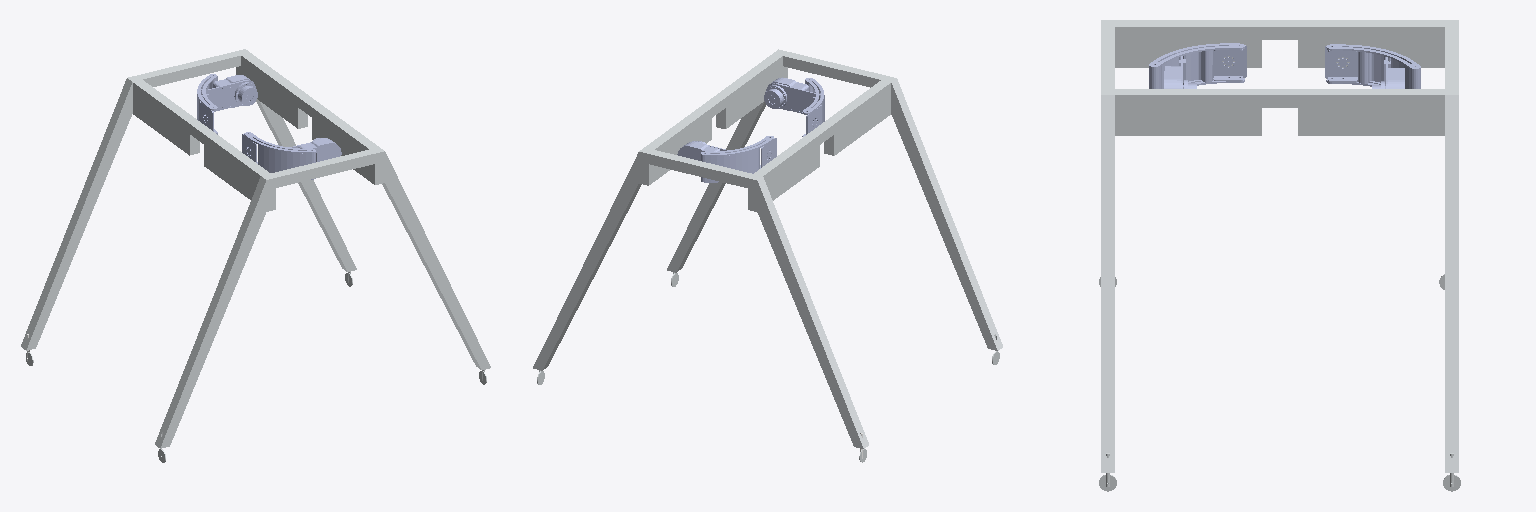
--- Render facts (derived) ---
Views: 3 orthographic renders of the robot side by side, from view 1: azimuth 30°, elevation 25°; view 2: azimuth 150°, elevation 25°; view 3: azimuth 270°, elevation 25°.
Model exoskeleton_btp with 20 links and 19 joints (16 continuous, 3 fixed), rooted at base_link, posed all joints at 0.
Links seen in each view (by area): view 1: rig_base_link, right_abd, left_IR, left_abd, right_IR; view 2: rig_base_link, left_abd, right_IR, right_abd; view 3: rig_base_link, right_abd, left_abd, right_IR, left_IR.
Boxes of the visible links, box(x1,y1,x2,y2) form: rig_base_link: box(21, 49, 490, 448); right_abd: box(242, 132, 315, 179); left_IR: box(201, 75, 257, 111); left_abd: box(197, 74, 217, 134); right_IR: box(290, 138, 341, 161); rig_base_link: box(533, 49, 1002, 448); left_abd: box(701, 136, 776, 182); right_IR: box(764, 77, 820, 113); right_abd: box(802, 78, 824, 136); rig_base_link: box(1101, 20, 1458, 472); right_abd: box(1149, 43, 1246, 88); left_abd: box(1325, 44, 1420, 88); right_IR: box(1164, 55, 1196, 88); left_IR: box(1372, 56, 1404, 88).
Bounding box of the posed robot: 1.34 × 0.99 × 1.01 m (x, y, z).
Meshes: 20 distinct files referenced, 12 mesh visuals loaded (12 binary STL); not drawn: 8 (reference not matched to a file when rendering).

robot.urdf — exoskeleton_btp:
<?xml version="1.0" encoding="utf-8" ?>
<!-- This URDF was automatically created by SolidWorks to URDF Exporter! Originally created by Stephen Brawner ([email redacted]) 
     Commit Version: 1.5.1-0-g916b5db  Build Version: 1.5.7152.31018
     For more information, please see http://wiki.ros.org/sw_urdf_exporter -->
<robot name="exoskeleton_btp">
    <link name="base_link">
        
<inertial>
            <origin xyz="0.1374 0.17784 0.29296" rpy="0 0 0" />
            <mass value="1.6284" />
            <inertia ixx="0.0049242" ixy="-1.1068E-07" ixz="1.4133E-05" iyy="0.0012571" iyz="6.8671E-06" izz="0.0040482" />
        </inertial>

        <visual>
            <origin xyz="0 0 0" rpy="0 0 0" />
            <geometry>
                <mesh filename="package://exoskeleton_btp/meshes/base_link.STL" />
            </geometry>
            <material name="">
                <color rgba="0.79216 0.81961 0.93333 1" />
            </material>
        </visual>
        <collision>
            <origin xyz="0 0 0" rpy="0 0 0" />
            <geometry>
                <mesh filename="package://exoskeleton_btp/meshes/base_link.STL" />
            </geometry>
        </collision>
    </link>
    <link name="right_abd">
        
<inertial>
            <origin xyz="0.060901 0.00077301 0.1073" rpy="0 0 0" />
            <mass value="0.39057" />
            <inertia ixx="0.0017341" ixy="-6.9806E-06" ixz="-0.0009688" iyy="0.0022726" iyz="-8.6331E-06" izz="0.0010696" />
        </inertial>

        <visual>
            <origin xyz="0 0 0" rpy="0 0 0" />
            <geometry>
                <mesh filename="package://exoskeleton_btp/meshes/right_abd.STL" />
            </geometry>
            <material name="">
                <color rgba="0.79216 0.81961 0.93333 1" />
            </material>
        </visual>
        <collision>
            <origin xyz="0 0 0" rpy="0 0 0" />
            <geometry>
                <mesh filename="package://exoskeleton_btp/meshes/right_abd.STL" />
            </geometry>
        </collision>
    </link>
    <joint name="joint_right_abd" type="continuous">
        <origin xyz="0.18866 -0.44997 0.15871" rpy="1.5762 -8.7598E-05 0" />
        <parent link="base_link" />
        <child link="right_abd" />
        <axis xyz="0.99987 -0 0.016127" />
        <limit lower="-1.57" upper="1.57" effort="50" velocity="2" />
    </joint>
    <link name="right_IR">
        
<inertial>
            <origin xyz="-0.0392871810712728 0.0411109744677959 0.138935601316326" rpy="0 0 0" />
            <mass value="0.603610840109084" />
            <inertia ixx="0.000492310842165682" ixy="-2.43938943929523E-07" ixz="-1.74058723223123E-05" iyy="0.000854839735660645" iyz="2.49487643777159E-06" izz="0.00119850539145051" />
        </inertial>

        <visual>
            <origin xyz="0 0 0" rpy="0 0 0" />
            <geometry>
                <mesh filename="package://exoskeleton_btp/meshes/right_IR.STL" />
            </geometry>
            <material name="">
                <color rgba="0.792156862745098 0.819607843137255 0.933333333333333 1" />
            </material>
        </visual>
        <collision>
            <origin xyz="0 0 0" rpy="0 0 0" />
            <geometry>
                <mesh filename="package://exoskeleton_btp/meshes/right_IR.STL" />
            </geometry>
        </collision>
    </link>
    <joint name="joint_right_ir" type="fixed">
        <origin xyz="0.23659 -0.03974 0.0041779" rpy="0 -0.008859 6.4417E-05" />
        <parent link="right_abd" />
        <child link="right_IR" />
        <axis xyz="-0.00011727 -0.99997 0.0072704" />
        <limit lower="-0.78" upper="0.78" effort="50" velocity="0" />
    </joint>
    <link name="right_thigh">
        
<inertial>
            <origin xyz="-0.00587420466230082 -0.298902174142625 0.091775599276321" rpy="0 0 0" />
            <mass value="1.15370911386034" />
            <inertia ixx="0.00218007175592022" ixy="-1.55748585880625E-05" ixz="-4.42415137653492E-06" iyy="0.00132233462272001" iyz="5.74444533558131E-05" izz="0.00283882830556965" />
        </inertial>

        <visual>
            <origin xyz="0 0 0" rpy="0 0 0" />
            <geometry>
                <mesh filename="package://exoskeleton_btp/meshes/right_thigh.STL" />
            </geometry>
            <material name="">
                <color rgba="0.792156862745098 0.819607843137255 0.933333333333333 1" />
            </material>
        </visual>
        <collision>
            <origin xyz="0 0 0" rpy="0 0 0" />
            <geometry>
                <mesh filename="package://exoskeleton_btp/meshes/right_thigh.STL" />
            </geometry>
        </collision>
    </link>
    <joint name="joint_right_hip_flexion" type="continuous">
        <origin xyz="-0.0098949 0.050182 -0.00036542" rpy="0 0.00014564 0.020031" />
        <parent link="right_IR" />
        <child link="right_thigh" />
        <axis xyz="-5.6331E-05 0.0072704 0.99997" />
        <limit lower="-1.57" upper="1.57" effort="50" velocity="2" />
    </joint>
    <link name="right_shin">
        
<inertial>
            <origin xyz="-0.00484324975988659 -0.249966332784877 0.0473164354576108" rpy="0 0 0" />
            <mass value="1.02843390965148" />
            <inertia ixx="0.00235506979229389" ixy="-4.16475367765636E-05" ixz="-5.53584798297785E-06" iyy="0.00135441560259714" iyz="3.29601832998121E-05" izz="0.00314486729465403" />
        </inertial>

        <visual>
            <origin xyz="0 0 0" rpy="0 0 0" />
            <geometry>
                <mesh filename="package://exoskeleton_btp/meshes/right_shin.STL" />
            </geometry>
            <material name="">
                <color rgba="0.792156862745098 0.819607843137255 0.933333333333333 1" />
            </material>
        </visual>
        <collision>
            <origin xyz="0 0 0" rpy="0 0 0" />
            <geometry>
                <mesh filename="package://exoskeleton_btp/meshes/right_shin.STL" />
            </geometry>
        </collision>
    </link>
    <joint name="right_knee_joint" type="continuous">
        <origin xyz="-0.0080859 -0.43466 0.0031598" rpy="0 -4.2582E-05 -0.0058569" />
        <parent link="right_thigh" />
        <child link="right_shin" />
        <axis xyz="-5.6331E-05 0.0072704 0.99997" />
        <limit lower="0" upper="1.57" effort="50" velocity="2" />
    </joint>
    <link name="right_foot">
        
<inertial>
            <origin xyz="0.0270286138870783 -0.0603750401354918 -0.0491138257398857" rpy="0 0 0" />
            <mass value="0.488467661155972" />
            <inertia ixx="0.000615128535492023" ixy="3.500753715996E-06" ixz="-1.67688728203427E-08" iyy="0.000990291323750016" iyz="-3.84872415697616E-06" izz="0.000460939635747118" />
        </inertial>

        <visual>
            <origin xyz="0 0 0" rpy="0 0 0" />
            <geometry>
                <mesh filename="package://exoskeleton_btp/meshes/right_foot.STL" />
            </geometry>
            <material name="">
                <color rgba="0.792156862745098 0.819607843137255 0.933333333333333 1" />
            </material>
        </visual>
        <collision>
            <origin xyz="0 0 0" rpy="0 0 0" />
            <geometry>
                <mesh filename="package://exoskeleton_btp/meshes/right_foot.STL" />
            </geometry>
        </collision>
    </link>
    <joint name="right_ankle_flexion" type="continuous">
        <origin xyz="-0.0076107 -0.41617 0.0029527" rpy="0 -0.00017972 -0.024724" />
        <parent link="right_shin" />
        <child link="right_foot" />
        <axis xyz="-5.6331E-05 0.0072704 0.99997" />
        <limit lower="-0.78" upper="0.78" effort="50" velocity="2" />
    </joint>
    <link name="left_abd">
        
<inertial>
            <origin xyz="0.0652322924298407 -0.00922698573131753 0.107372356173445" rpy="0 0 0" />
            <mass value="0.390571538812804" />
            <inertia ixx="0.00173406573408417" ixy="-6.98064356900783E-06" ixz="-0.000968802831064001" iyy="0.00227256938156413" iyz="-8.6330776029772E-06" izz="0.00106961365428043" />
        </inertial>

        <visual>
            <origin xyz="0 0 0" rpy="0 0 0" />
            <geometry>
                <mesh filename="package://exoskeleton_btp/meshes/left_abd.STL" />
            </geometry>
            <material name="">
                <color rgba="0.792156862745098 0.819607843137255 0.933333333333333 1" />
            </material>
        </visual>
        <collision>
            <origin xyz="0 0 0" rpy="0 0 0" />
            <geometry>
                <mesh filename="package://exoskeleton_btp/meshes/left_abd.STL" />
            </geometry>
        </collision>
    </link>
    <joint name="joint_left_abd" type="continuous">
        <origin xyz="0.18936 -0.13768 0.14796" rpy="-1.5627 0.00013065 -0.032255" />
        <parent link="base_link" />
        <child link="left_abd" />
        <axis xyz="0.99987 0 0.016127" />
        <limit lower="-1.57" upper="1.57" effort="50" velocity="2" />
    </joint>
    <link name="left_IR">
        
<inertial>
            <origin xyz="-0.0392990142875405 -0.0497943875974824 0.139669246292548" rpy="0 0 0" />
            <mass value="0.603610840109083" />
            <inertia ixx="0.000492310842165682" ixy="-2.43938943929588E-07" ixz="-1.74058723223128E-05" iyy="0.000854839735660643" iyz="2.49487643777121E-06" izz="0.0011985053914505" />
        </inertial>

        <visual>
            <origin xyz="0 0 0" rpy="0 0 0" />
            <geometry>
                <mesh filename="package://exoskeleton_btp/meshes/left_IR.STL" />
            </geometry>
            <material name="">
                <color rgba="0.792156862745098 0.819607843137255 0.933333333333333 1" />
            </material>
        </visual>
        <collision>
            <origin xyz="0 0 0" rpy="0 0 0" />
            <geometry>
                <mesh filename="package://exoskeleton_btp/meshes/left_IR.STL" />
            </geometry>
        </collision>
    </link>
    <joint name="joint_left_ir" type="fixed">
        <origin xyz="0.24094 0.041166 0.0035141" rpy="0 -0.03127 0.00022748" />
        <parent link="left_abd" />
        <child link="left_IR" />
        <axis xyz="0.00011727 0.99997 -0.0072704" />
        <limit lower="-0.78" upper="0.78" effort="50" velocity="0" />
    </joint>
    <link name="left_thigh">
        
<inertial>
            <origin xyz="-0.00587419889410834 -0.288902135446464 0.0917754024034975" rpy="0 0 0" />
            <mass value="1.15370940261833" />
            <inertia ixx="0.00218007113154743" ixy="-1.5574685975789E-05" ixz="-4.42993941603603E-06" iyy="0.00132233519439819" iyz="5.74409958686481E-05" izz="0.00283882929782907" />
        </inertial>

        <visual>
            <origin xyz="0 0 0" rpy="0 0 0" />
            <geometry>
                <mesh filename="package://exoskeleton_btp/meshes/left_thigh.STL" />
            </geometry>
            <material name="">
                <color rgba="0.792156862745098 0.819607843137255 0.933333333333333 1" />
            </material>
        </visual>
        <collision>
            <origin xyz="0 0 0" rpy="0 0 0" />
            <geometry>
                <mesh filename="package://exoskeleton_btp/meshes/left_thigh.STL" />
            </geometry>
        </collision>
    </link>
    <joint name="joint_left_hip_flexion" type="continuous">
        <origin xyz="-0.0097064 -0.050721 0.00036823" rpy="0.01454 -0.00010065 -3.1123" />
        <parent link="left_IR" />
        <child link="left_thigh" />
        <axis xyz="0 0 1" />
        <limit lower="-1.57" upper="1.57" effort="50" velocity="2" />
    </joint>
    <link name="left_shin">
        
<inertial>
            <origin xyz="0.0021572666461262 -0.242332427675037 -0.0452747616492767" rpy="0 0 0" />
            <mass value="1.03950139195202" />
            <inertia ixx="0.00235534748488329" ixy="1.0328444631963E-06" ixz="-5.62826250871304E-06" iyy="0.00135495549315268" iyz="-1.74678122164304E-05" izz="0.00314522174843718" />
        </inertial>

        <visual>
            <origin xyz="0 0 0" rpy="0 0 0" />
            <geometry>
                <mesh filename="package://exoskeleton_btp/meshes/left_shin.STL" />
            </geometry>
            <material name="">
                <color rgba="0.792156862745098 0.819607843137255 0.933333333333333 1" />
            </material>
        </visual>
        <collision>
            <origin xyz="0 0 0" rpy="0 0 0" />
            <geometry>
                <mesh filename="package://exoskeleton_btp/meshes/left_shin.STL" />
            </geometry>
        </collision>
    </link>
    <joint name="joint_left_knee_flexion" type="continuous">
        <origin xyz="-0.0081444 -0.43466 0.0031598" rpy="-3.1343 0.00027035 3.1121" />
        <parent link="left_thigh" />
        <child link="left_shin" />
        <axis xyz="0 0 -1" />
        <limit lower="0" upper="1.57" effort="50" velocity="2" />
    </joint>
    <link name="left_foot">
        
<inertial>
            <origin xyz="0.0267458471873576 -0.0597868208876867 0.0498052197209016" rpy="0 0 0" />
            <mass value="0.490370608685154" />
            <inertia ixx="0.000615366860470383" ixy="7.52417050805258E-06" ixz="-5.27465873232875E-12" iyy="0.000990180392648353" iyz="2.64536994064652E-12" izz="0.000460940554043818" />
        </inertial>

        <visual>
            <origin xyz="0 0 0" rpy="0 0 0" />
            <geometry>
                <mesh filename="package://exoskeleton_btp/meshes/left_foot.STL" />
            </geometry>
            <material name="">
                <color rgba="0.792156862745098 0.819607843137255 0.933333333333333 1" />
            </material>
        </visual>
        <collision>
            <origin xyz="0 0 0" rpy="0 0 0" />
            <geometry>
                <mesh filename="package://exoskeleton_btp/meshes/left_foot.STL" />
            </geometry>
        </collision>
    </link>
    <joint name="joint_left_ankle_flexion" type="continuous">
        <origin xyz="0.0031757 -0.40989 0" rpy="0 0 0" />
        <parent link="left_shin" />
        <child link="left_foot" />
        <axis xyz="0 0 1" />
        <limit lower="-0.78" upper="0.78" effort="50" velocity="2" />
    </joint>
    <!-- <link name="world" />
    <joint name="world_joint" type="fixed">
        <parent link="world" />
        <child link="base_link" />
        <origin xyz="0.0 0.0 1" rpy="0.0 0.0 0.0" />
    </joint> -->
    
<transmission name="trans_joint_right_abd">
        <type>transmission_interface/SimpleTransmission</type>
        <joint name="joint_right_abd">
            <hardwareInterface>hardware_interface/PositionJointInterface</hardwareInterface>
        </joint>
        <actuator name="joint_right_abd_motor">
            <hardwareInterface>hardware_interface/PositionJointInterface</hardwareInterface>
            <mechanicalReduction>1</mechanicalReduction>
        </actuator>
    </transmission>

    <transmission name="trans_joint_right_hip_flexion">
        <type>transmission_interface/SimpleTransmission</type>
        <joint name="joint_right_hip_flexion">
            <hardwareInterface>hardware_interface/PositionJointInterface</hardwareInterface>
        </joint>
        <actuator name="joint_right_hip_flexion_motor">
            <hardwareInterface>hardware_interface/PositionJointInterface</hardwareInterface>
            <mechanicalReduction>1</mechanicalReduction>
        </actuator>
    </transmission>
    <transmission name="trans_right_knee_joint">
        <type>transmission_interface/SimpleTransmission</type>
        <joint name="right_knee_joint">
            <hardwareInterface>hardware_interface/PositionJointInterface</hardwareInterface>
        </joint>
        <actuator name="right_knee_joint_motor">
            <hardwareInterface>hardware_interface/PositionJointInterface</hardwareInterface>
            <mechanicalReduction>1</mechanicalReduction>
        </actuator>
    </transmission>
    <transmission name="trans_right_ankle_flexion">
        <type>transmission_interface/SimpleTransmission</type>
        <joint name="right_ankle_flexion">
            <hardwareInterface>hardware_interface/PositionJointInterface</hardwareInterface>
        </joint>
        <actuator name="right_ankle_flexion_motor">
            <hardwareInterface>hardware_interface/PositionJointInterface</hardwareInterface>
            <mechanicalReduction>1</mechanicalReduction>
        </actuator>
    </transmission>
    <transmission name="trans_joint_left_abd">
        <type>transmission_interface/SimpleTransmission</type>
        <joint name="joint_left_abd">
            <hardwareInterface>hardware_interface/PositionJointInterface</hardwareInterface>
        </joint>
        <actuator name="joint_left_abd_motor">
            <hardwareInterface>hardware_interface/PositionJointInterface</hardwareInterface>
            <mechanicalReduction>1</mechanicalReduction>
        </actuator>
    </transmission>

    <transmission name="trans_joint_left_hip_flexion">
        <type>transmission_interface/SimpleTransmission</type>
        <joint name="joint_left_hip_flexion">
            <hardwareInterface>hardware_interface/PositionJointInterface</hardwareInterface>
        </joint>
        <actuator name="joint_left_hip_flexion_motor">
            <hardwareInterface>hardware_interface/PositionJointInterface</hardwareInterface>
            <mechanicalReduction>1</mechanicalReduction>
        </actuator>
    </transmission>
    <transmission name="trans_joint_left_knee_flexion">
        <type>transmission_interface/SimpleTransmission</type>
        <joint name="joint_left_knee_flexion">
            <hardwareInterface>hardware_interface/PositionJointInterface</hardwareInterface>
        </joint>
        <actuator name="joint_left_knee_flexion_motor">
            <hardwareInterface>hardware_interface/PositionJointInterface</hardwareInterface>
            <mechanicalReduction>1</mechanicalReduction>
        </actuator>
    </transmission>
    <transmission name="trans_joint_left_ankle_flexion">
        <type>transmission_interface/SimpleTransmission</type>
        <joint name="joint_left_ankle_flexion">
            <hardwareInterface>hardware_interface/PositionJointInterface</hardwareInterface>
        </joint>
        <actuator name="joint_left_ankle_flexion_motor">
            <hardwareInterface>hardware_interface/PositionJointInterface</hardwareInterface>
            <mechanicalReduction>1</mechanicalReduction>
        </actuator>
    </transmission>
    <gazebo>
        <plugin name="gazebo_ros_control" filename="libgazebo_ros_control.so">
            <robotNamespace>/</robotNamespace>
        </plugin>
    </gazebo>
  <link
    name="rig_base_link">
    <inertial>
      <origin
        xyz="0.49 -0.28213 -0.24"
        rpy="0 0 0" />
      <mass
        value="1.5306" />
      <inertia
        ixx="3"
        ixy="8.0882E-15"
        ixz="-7.7592E-15"
        iyy="3"
        iyz="4.0073E-15"
        izz="3" />
    </inertial>
    <visual>
      <origin
        xyz="0 0 0"
        rpy="0 0 0" />
      <geometry>
        <mesh
          filename="package://exoskeleton_btp/meshes/rig_base_link.STL" />
      </geometry>
      <material
        name="">
        <color
          rgba="0.89804 0.91765 0.92941 1" />
      </material>
    </visual>
    <collision>
      <origin
        xyz="0 0 0"
        rpy="0 0 0" />
      <geometry>
        <mesh
          filename="package://exoskeleton_btp/meshes/base_link.STL" />
      </geometry>
    </collision>
  </link>
  <link
    name="pin1">
    <inertial>
      <origin
        xyz="1.71101498143422E-08 -0.0395589484462103 1.84748782938726E-09"
        rpy="0 0 0" />
      <mass
        value="0.0157921694406014" />
      <inertia
        ixx="1.03075142406506E-05"
        ixy="1.21727503100021E-11"
        ixz="-1.57404961727643E-13"
        iyy="2.11290786395121E-07"
        iyz="1.16507657337882E-12"
        izz="1.03336371454732E-05" />
    </inertial>
    <visual>
      <origin
        xyz="0 0 0"
        rpy="0 0 0" />
      <geometry>
        <mesh
          filename="package://exoskeleton_btp/meshes/pin1.STL" />
      </geometry>
      <material
        name="">
        <color
          rgba="0.898039215686275 0.917647058823529 0.929411764705882 1" />
      </material>
    </visual>
    <collision>
      <origin
        xyz="0 0 0"
        rpy="0 0 0" />
      <geometry>
        <mesh
          filename="package://exoskeleton_btp/meshes/pin1.STL" />
      </geometry>
    </collision>
  </link>
  <joint
    name="joint_pin1"
    type="continuous">
    <origin
      xyz="-0.41117 -0.96 -0.89"
      rpy="1.5708 0 0" />
    <parent
      link="rig_base_link" />
    <child
      link="pin1" />
    <axis
      xyz="0 -1 0" />
  </joint>
  <link
    name="wheel1">
    <inertial>
      <origin
        xyz="0 -1.11022302462516E-16 0.000500000000000007"
        rpy="0 0 0" />
      <mass
        value="0.0209936929076138" />
      <inertia
        ixx="3.34105875252629E-06"
        ixy="-5.29395592033938E-23"
        ixz="-1.26558633720613E-22"
        iyy="3.34105875252629E-06"
        iyz="-4.30133918527574E-23"
        izz="6.62613432396561E-06" />
    </inertial>
    <visual>
      <origin
        xyz="0 0 0"
        rpy="0 0 0" />
      <geometry>
        <mesh
          filename="package://exoskeleton_btp/meshes/wheel1.STL" />
      </geometry>
      <material
        name="">
        <color
          rgba="0.898039215686275 0.917647058823529 0.929411764705882 1" />
      </material>
    </visual>
    <collision>
      <origin
        xyz="0 0 0"
        rpy="0 0 0" />
      <geometry>
        <mesh
          filename="package://exoskeleton_btp/meshes/wheel1.STL" />
      </geometry>
    </collision>
  </link>
  <joint
    name="joint_wheel1"
    type="continuous">
    <origin
      xyz="0 -0.09 0"
      rpy="1.5708 -0.094639 1.5708" />
    <parent
      link="pin1" />
    <child
      link="wheel1" />
    <axis
      xyz="0 0 -1" />
  </joint>
  <link
    name="pin2">
    <inertial>
      <origin
        xyz="1.71101498525061E-08 -0.0395589484462106 1.84748785714284E-09"
        rpy="0 0 0" />
      <mass
        value="0.0157921694406015" />
      <inertia
        ixx="1.03075142406506E-05"
        ixy="1.21727503121143E-11"
        ixz="-1.57404961674703E-13"
        iyy="2.11290786395122E-07"
        iyz="1.1650765749663E-12"
        izz="1.03336371454733E-05" />
    </inertial>
    <visual>
      <origin
        xyz="0 0 0"
        rpy="0 0 0" />
      <geometry>
        <mesh
          filename="package://exoskeleton_btp/meshes/pin2.STL" />
      </geometry>
      <material
        name="">
        <color
          rgba="0.898039215686275 0.917647058823529 0.929411764705882 1" />
      </material>
    </visual>
    <collision>
      <origin
        xyz="0 0 0"
        rpy="0 0 0" />
      <geometry>
        <mesh
          filename="package://exoskeleton_btp/meshes/pin2.STL" />
      </geometry>
    </collision>
  </link>
  <joint
    name="joint_pin2"
    type="continuous">
    <origin
      xyz="0.88883 -0.96 -0.89"
      rpy="1.5708 0 0" />
    <parent
      link="rig_base_link" />
    <child
      link="pin2" />
    <axis
      xyz="0 -1 0" />
  </joint>
  <link
    name="wheel2">
    <inertial>
      <origin
        xyz="0 0 0.000499999999999723"
        rpy="0 0 0" />
      <mass
        value="0.020993692907614" />
      <inertia
        ixx="3.34105875252632E-06"
        ixy="-2.64697796016969E-23"
        ixz="-1.49190295280064E-20"
        iyy="3.34105875252632E-06"
        iyz="2.35250166210081E-21"
        izz="6.62613432396567E-06" />
    </inertial>
    <visual>
      <origin
        xyz="0 0 0"
        rpy="0 0 0" />
      <geometry>
        <mesh
          filename="package://exoskeleton_btp/meshes/wheel2.STL" />
      </geometry>
      <material
        name="">
        <color
          rgba="0.898039215686275 0.917647058823529 0.929411764705882 1" />
      </material>
    </visual>
    <collision>
      <origin
        xyz="0 0 0"
        rpy="0 0 0" />
      <geometry>
        <mesh
          filename="package://exoskeleton_btp/meshes/wheel2.STL" />
      </geometry>
    </collision>
  </link>
  <joint
    name="joint_wheel2"
    type="continuous">
    <origin
      xyz="0 -0.0900000000000001 0"
      rpy="1.5707963267949 -0.0946389386873221 1.5707963267949" />
    <parent
      link="pin2" />
    <child
      link="wheel2" />
    <axis
      xyz="0 0 -1" />
  </joint>
  <link
    name="pin3">
    <inertial>
      <origin
        xyz="1.71101498525061E-08 -0.0395589484462106 1.84748777387611E-09"
        rpy="0 0 0" />
      <mass
        value="0.0157921694406015" />
      <inertia
        ixx="1.03075142406506E-05"
        ixy="1.2172750308802E-11"
        ixz="-1.57404961793817E-13"
        iyy="2.11290786395121E-07"
        iyz="1.16507656974716E-12"
        izz="1.03336371454733E-05" />
    </inertial>
    <visual>
      <origin
        xyz="0 0 0"
        rpy="0 0 0" />
      <geometry>
        <mesh
          filename="package://exoskeleton_btp/meshes/pin3.STL" />
      </geometry>
      <material
        name="">
        <color
          rgba="0.898039215686275 0.917647058823529 0.929411764705882 1" />
      </material>
    </visual>
    <collision>
      <origin
        xyz="0 0 0"
        rpy="0 0 0" />
      <geometry>
        <mesh
          filename="package://exoskeleton_btp/meshes/pin3.STL" />
      </geometry>
    </collision>
  </link>
  <joint
    name="joint_pin3"
    type="continuous">
    <origin
      xyz="0.88883 -0.02 -0.89"
      rpy="1.5708 0 0" />
    <parent
      link="rig_base_link" />
    <child
      link="pin3" />
    <axis
      xyz="0 -1 0" />
  </joint>
  <link
    name="wheel3">
    <inertial>
      <origin
        xyz="0 -1.11022302462516E-16 0.000499999999999945"
        rpy="0 0 0" />
      <mass
        value="0.020993692907614" />
      <inertia
        ixx="3.34105875252633E-06"
        ixy="-5.29395592033938E-23"
        ixz="-1.49612157392466E-20"
        iyy="3.34105875252632E-06"
        iyz="2.25985743349487E-21"
        izz="6.62613432396568E-06" />
    </inertial>
    <visual>
      <origin
        xyz="0 0 0"
        rpy="0 0 0" />
      <geometry>
        <mesh
          filename="package://exoskeleton_btp/meshes/wheel3.STL" />
      </geometry>
      <material
        name="">
        <color
          rgba="0.898039215686275 0.917647058823529 0.929411764705882 1" />
      </material>
    </visual>
    <collision>
      <origin
        xyz="0 0 0"
        rpy="0 0 0" />
      <geometry>
        <mesh
          filename="package://exoskeleton_btp/meshes/wheel3.STL" />
      </geometry>
    </collision>
  </link>
  <joint
    name="joint_wheel3"
    type="continuous">
    <origin
      xyz="0 -0.0900000000000001 0"
      rpy="1.5707963267949 -0.0946389386873223 1.5707963267949" />
    <parent
      link="pin3" />
    <child
      link="wheel3" />
    <axis
      xyz="0 0 -1" />
  </joint>
  <link
    name="pin4">
    <inertial>
      <origin
        xyz="0 0 0"
        rpy="0 0 0" />
      <mass
        value="0.0157921694406015" />
      <inertia
        ixx="1.03075142406506E-05"
        ixy="1.2172750308802E-11"
        ixz="-1.57404961793817E-13"
        iyy="2.11290786395121E-07"
        iyz="1.16507656974716E-12"
        izz="1.03336371454733E-05" />
    </inertial>
    <visual>
      <origin
        xyz="0 0 0"
        rpy="0 0 0" />
      <geometry>
        <mesh
          filename="package://exoskeleton_btp/meshes/pin4.STL" />
      </geometry>
      <material
        name="">
        <color
          rgba="1 1 1 1" />
      </material>
    </visual>
    <collision>
      <origin
        xyz="0 0 0"
        rpy="0 0 0" />
      <geometry>
        <mesh
          filename="package://exoskeleton_btp/meshes/pin1.STL" />
      </geometry>
    </collision>
  </link>
  <joint
    name="joint_pin4"
    type="continuous">
    <origin
      xyz="-0.411166444412457 -0.0200000000000018 -0.890000000000032"
      rpy="1.5707963267949 0 0" />
    <parent
      link="rig_base_link" />
    <child
      link="pin4" />
    <axis
      xyz="0 -1 0" />
  </joint>
  <link
    name="wheel4">
    <inertial>
      <origin
        xyz="0 -0.0 0.000500000000000009"
        rpy="0 0 0" />
      <mass
        value="0.0209936929076138" />
      <inertia
        ixx="3.34105875252629E-06"
        ixy="-5.29395592033938E-23"
        ixz="-1.26558633720613E-22"
        iyy="3.34105875252629E-06"
        iyz="-4.30133918527574E-23"
        izz="6.62613432396561E-06" />
    </inertial>
    <visual>
      <origin
        xyz="0 0 0"
        rpy="0 0 0" />
      <geometry>
        <mesh
          filename="package://exoskeleton_btp/meshes/wheel4.STL" />
      </geometry>
      <material
        name="">
        <color
          rgba="0.898039215686275 0.917647058823529 0.929411764705882 1" />
      </material>
    </visual>
    <collision>
      <origin
        xyz="0 0 0"
        rpy="0 0 0" />
      <geometry>
        <mesh
          filename="package://exoskeleton_btp/meshes/wheel4.STL" />
      </geometry>
    </collision>
  </link>
  <joint
    name="joint_wheel4"
    type="continuous">
    <origin
      xyz="0 -0.0909449772921084 0.00995525077119574"
      rpy="1.5707963267949 -0.0946389386873223 1.5707963267949" />
    <parent
      link="pin4" />
    <child
      link="wheel4" />
    <axis
      xyz="0 0 -1" />
  </joint>
    <joint name="exo_base_rig_joint" type="fixed">
        <parent link="base_link" />
        <child link="rig_base_link" />
        <origin xyz="0.06 0.180 0.22" rpy="0.0 0.0 0.0" />
        <!-- <origin xyz="0.06 0.180 0.22925" rpy="0.0 0.0 0.0" /> -->
    </joint>
</robot>
